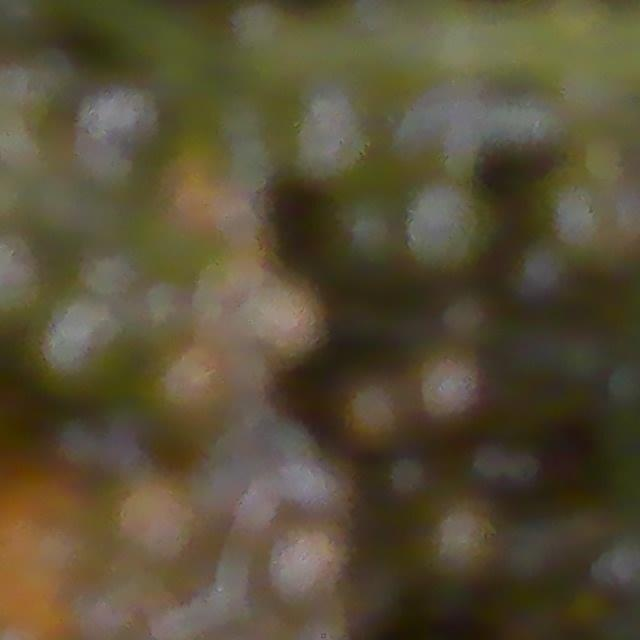SeaGrape: (81, 66, 179, 176), (397, 176, 499, 281), (406, 343, 497, 435), (262, 528, 357, 612), (148, 332, 238, 420), (114, 478, 200, 568), (332, 381, 416, 473), (326, 189, 413, 275), (427, 510, 515, 593), (499, 234, 582, 318), (433, 285, 507, 358)
